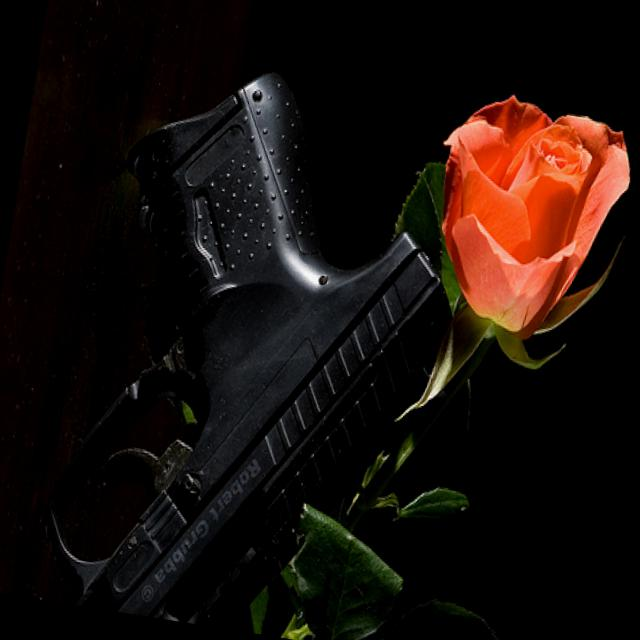handgun: (39, 38, 474, 639)
